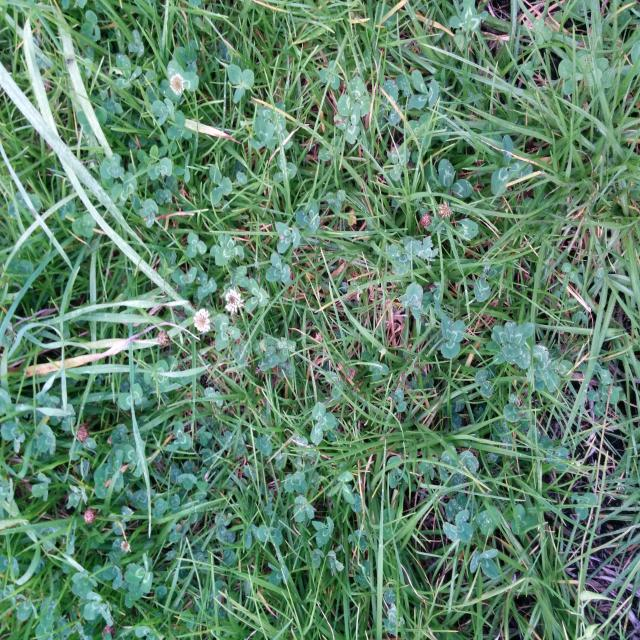Four Leaf Clover: (492, 321, 535, 369)
